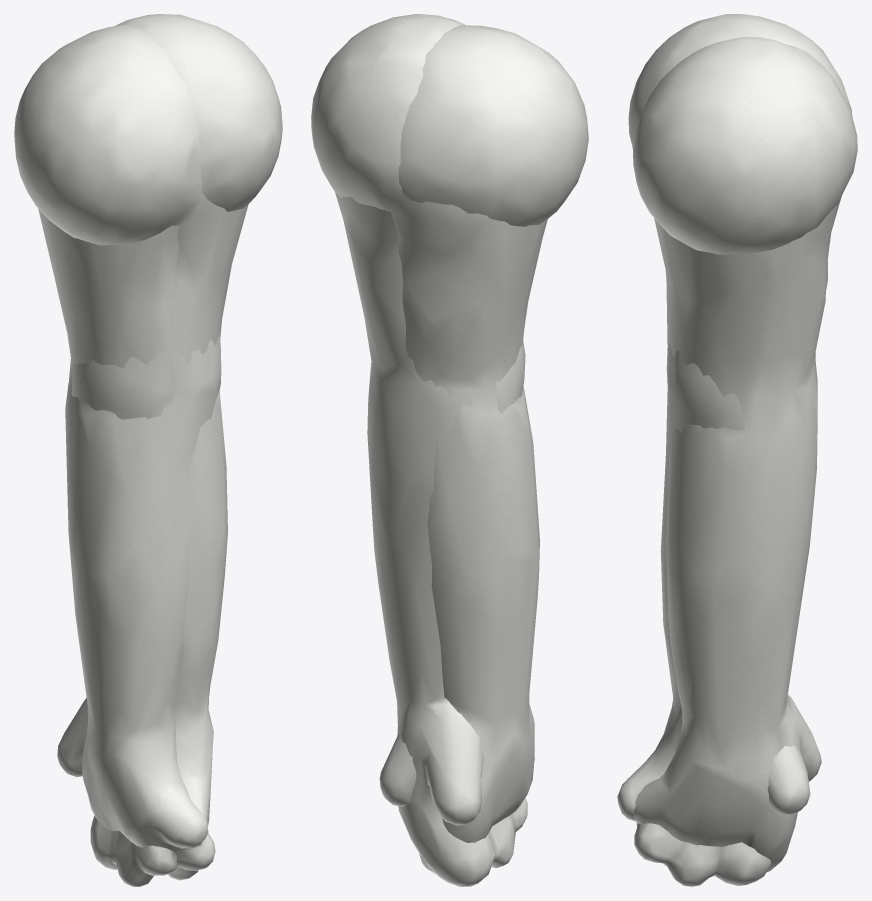
The model's file is arms-rbx1718v3.glb.
3 views of the same model, side by side, from view 1: azimuth 30°, elevation 25°; view 2: azimuth 150°, elevation 25°; view 3: azimuth 270°, elevation 25° (orthographic).
Visible parts, largest first — view 1: armL__whole, armR__whole; view 2: armL__whole, armR__whole; view 3: armR__whole, armL__whole.
Part boxes in pixels (x1=…): armL__whole: x1=38, y1=14, x2=282, y2=880; armR__whole: x1=14, y1=25, x2=248, y2=886; armL__whole: x1=311, y1=14, x2=547, y2=874; armR__whole: x1=335, y1=25, x2=588, y2=886; armR__whole: x1=628, y1=14, x2=852, y2=871; armL__whole: x1=617, y1=37, x2=857, y2=886.
Size of the model in its own units: 0.2321 by 0.7741 by 0.1986.
2 materials, 2 textured.
